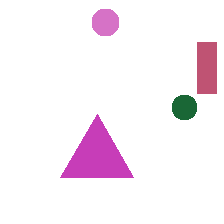circle: (92, 9, 118, 35), (172, 95, 196, 119)
rectangle: (197, 42, 216, 93)
triangle: (60, 114, 133, 177)
